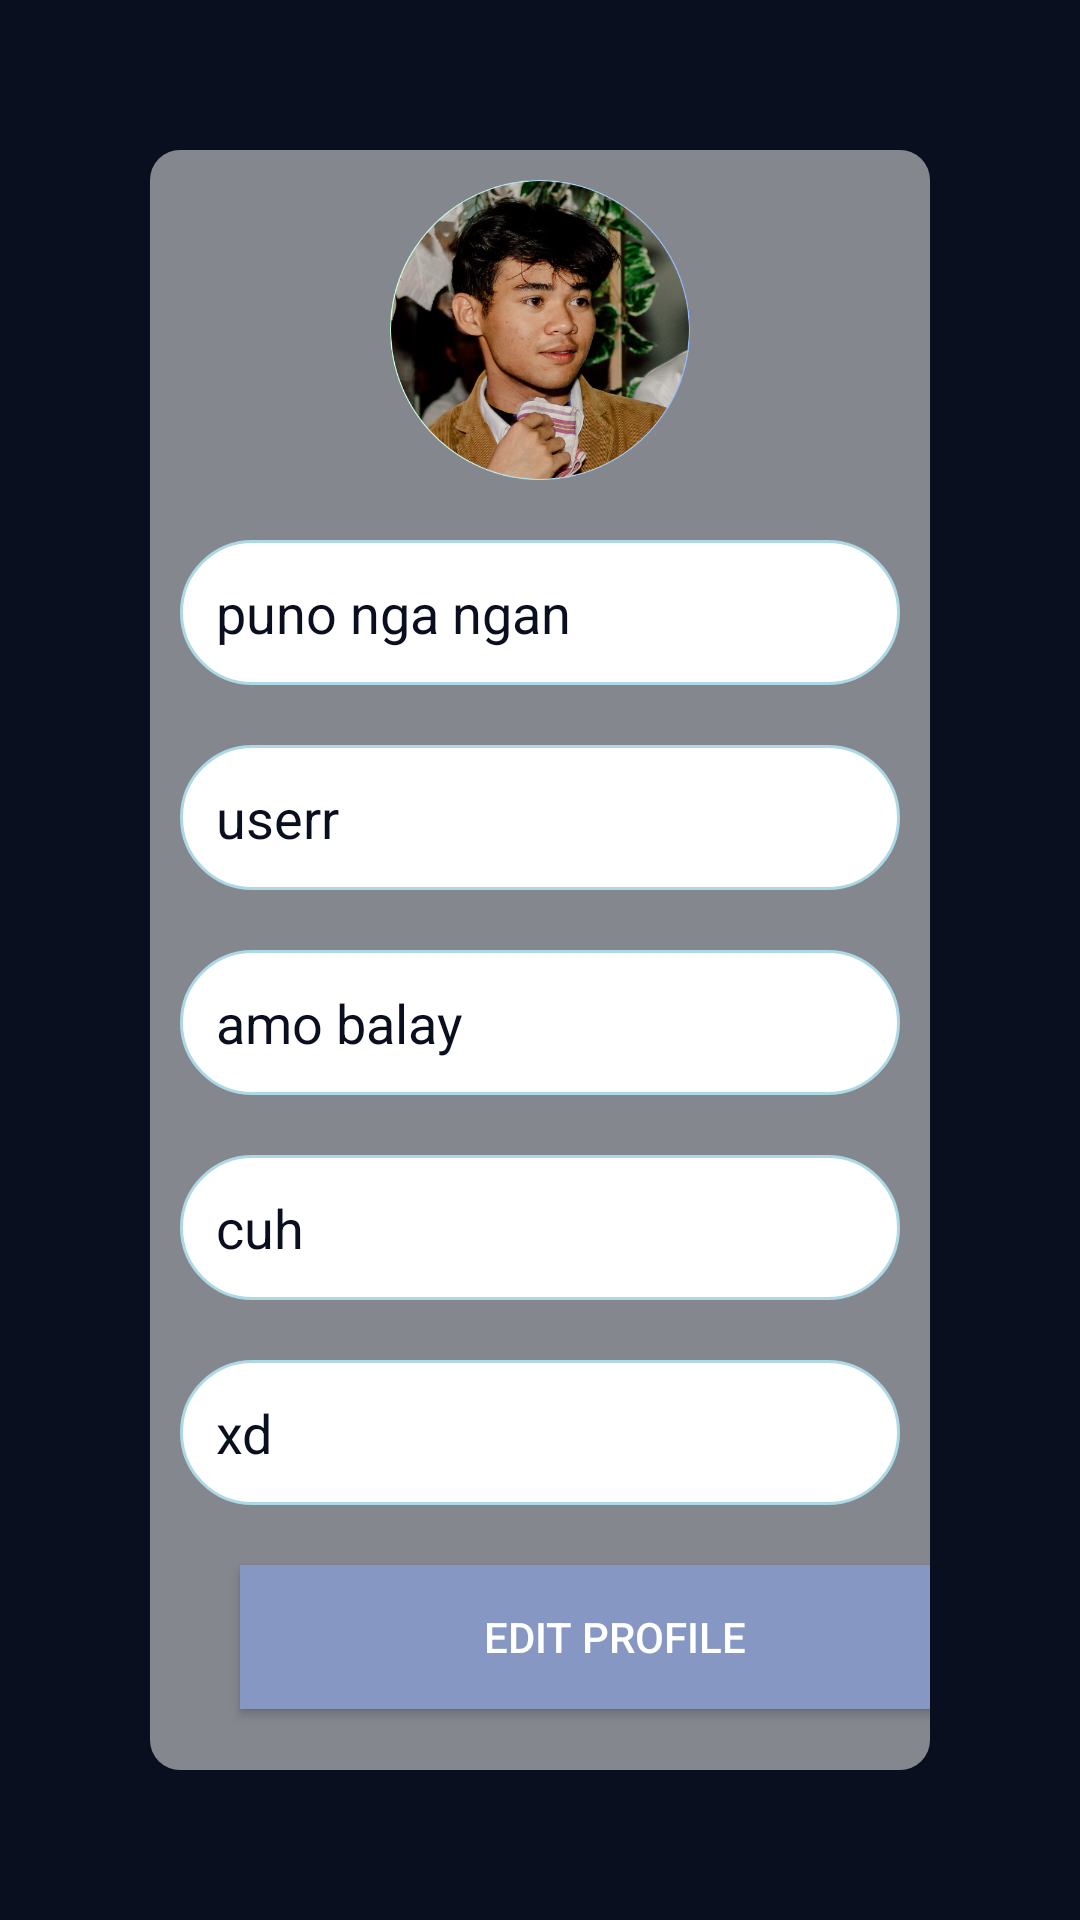

Point at icon controls on the screen. Image size 1080x1920, points as point (x, y).
profile picture: point (540, 330)
